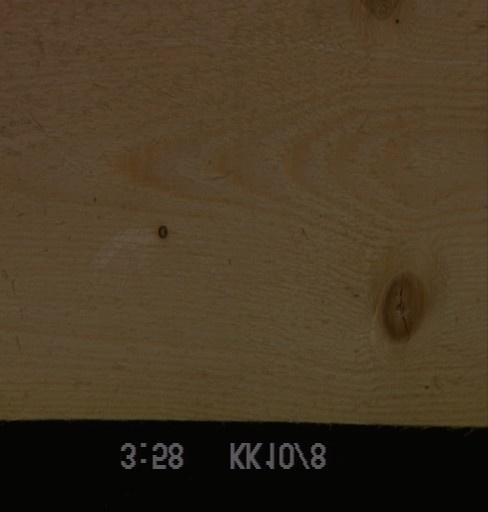dry_knot: (154, 223, 168, 242)
edge_knot: (355, 0, 404, 25)
sound_knot: (378, 270, 428, 344)
